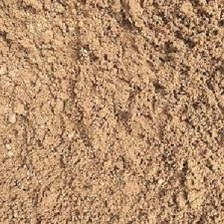sandy_soil: (8, 23, 209, 215)
